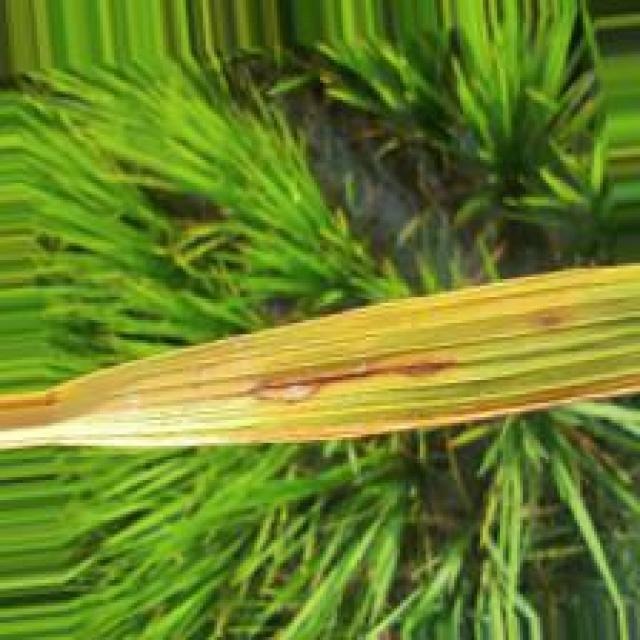Rice Tungro: (246, 352, 455, 404)
